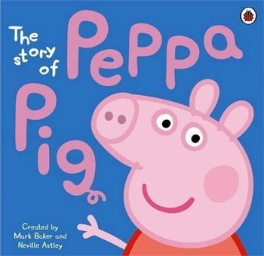Peppa: (75, 75, 256, 256)
